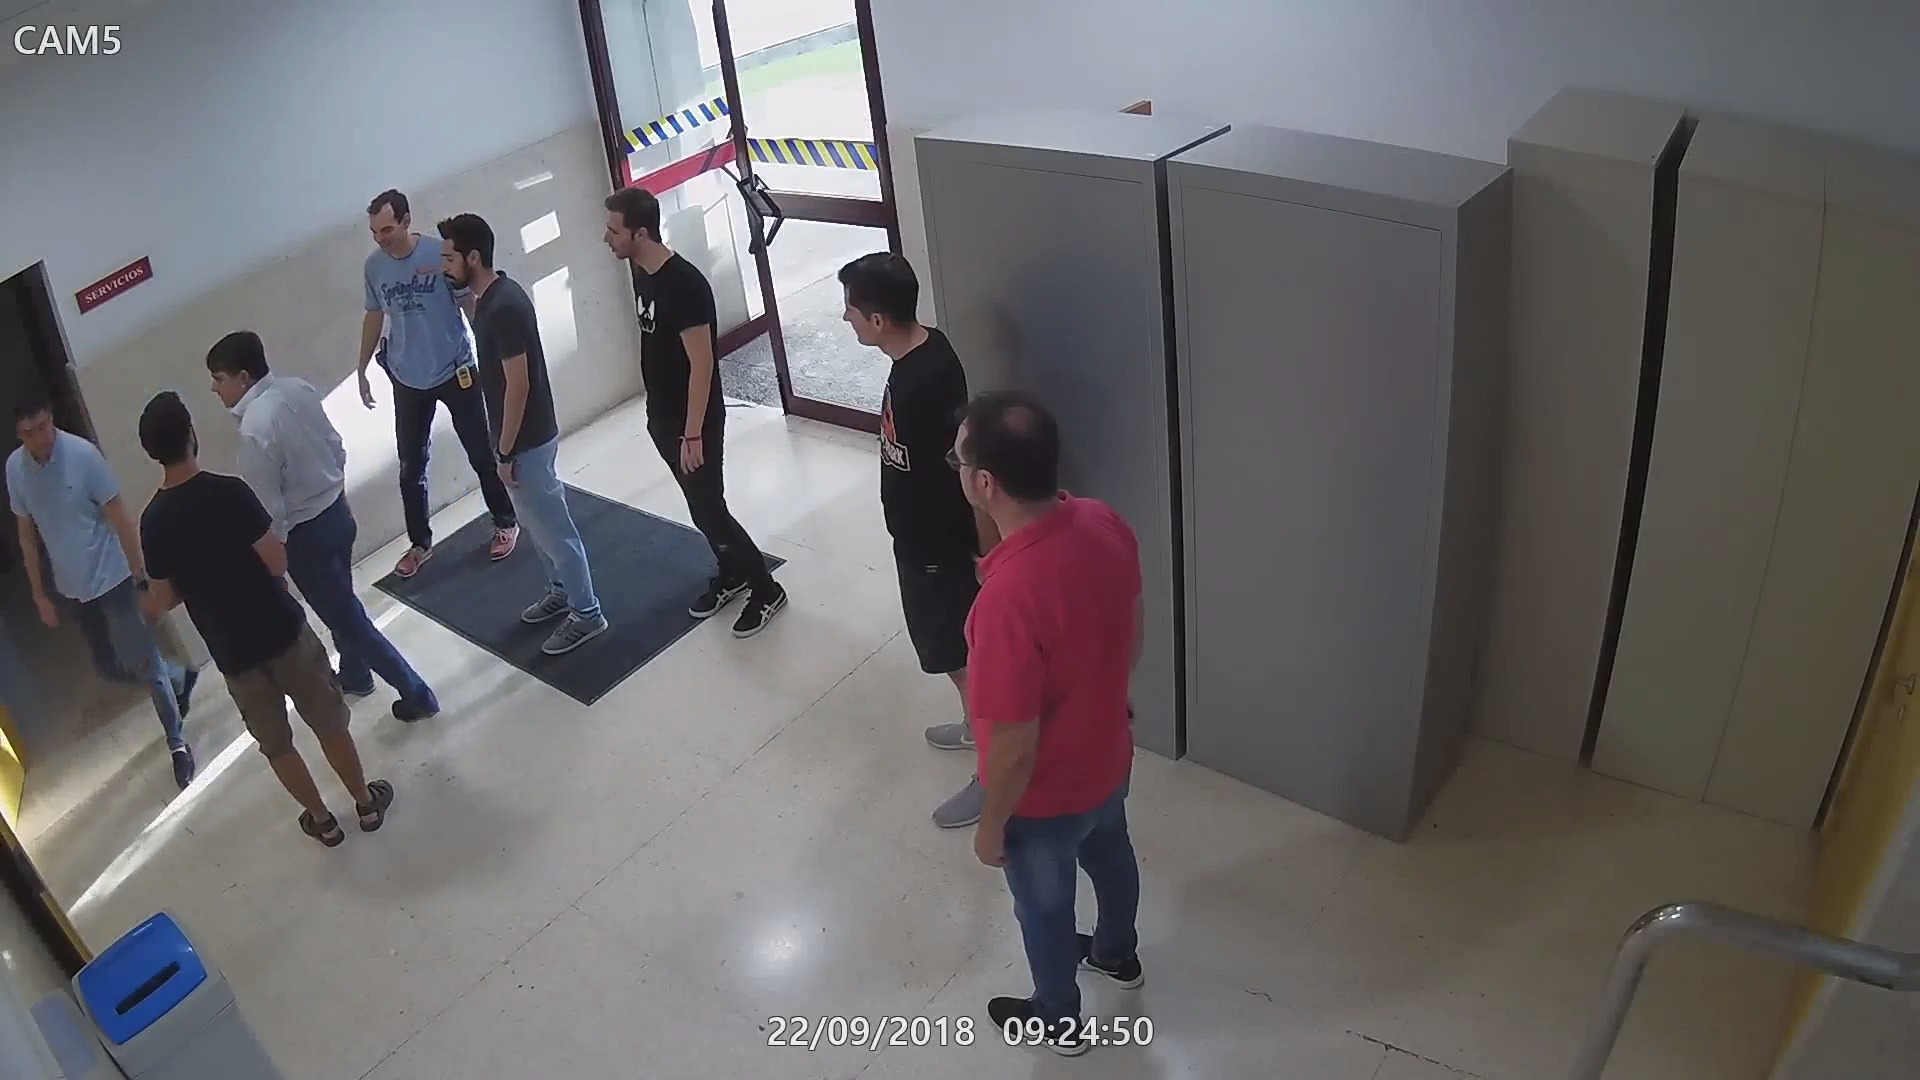Handgun: (367, 331, 394, 385)
